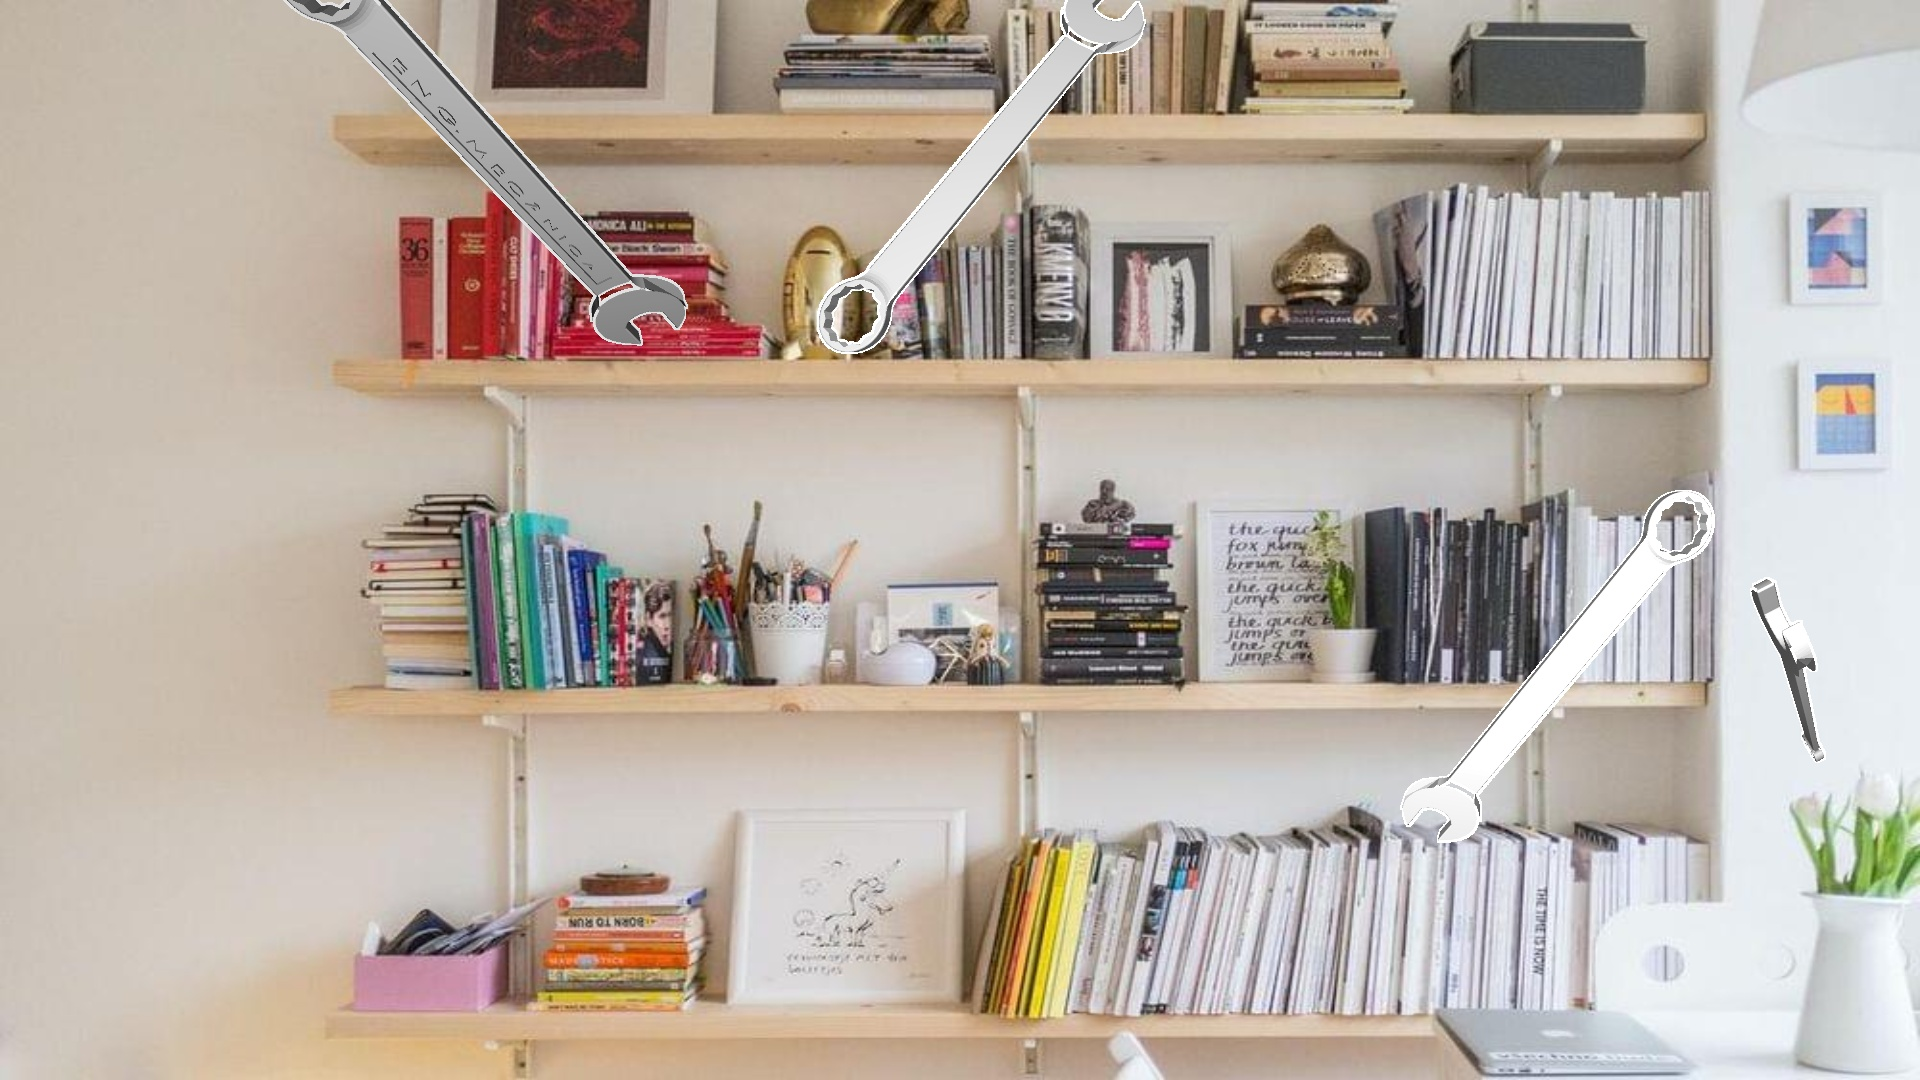Mixed Key: (284, 0, 687, 345), (818, 0, 1145, 353), (1400, 491, 1714, 843), (1750, 578, 1825, 762)
